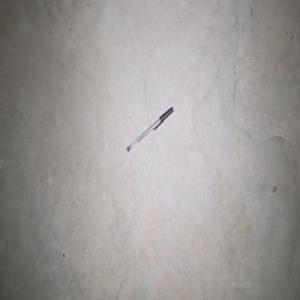Pen: (126, 106, 173, 151)
